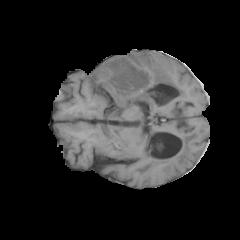glioma: (91, 52, 190, 116)
